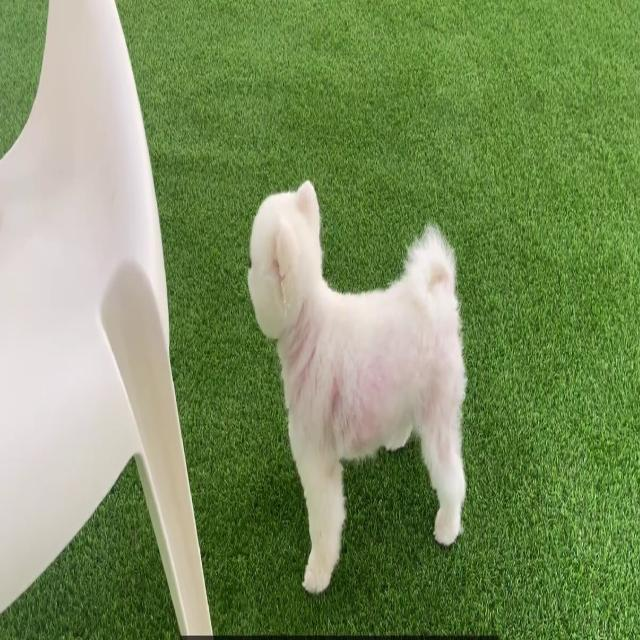Dog: (247, 180, 467, 593)
